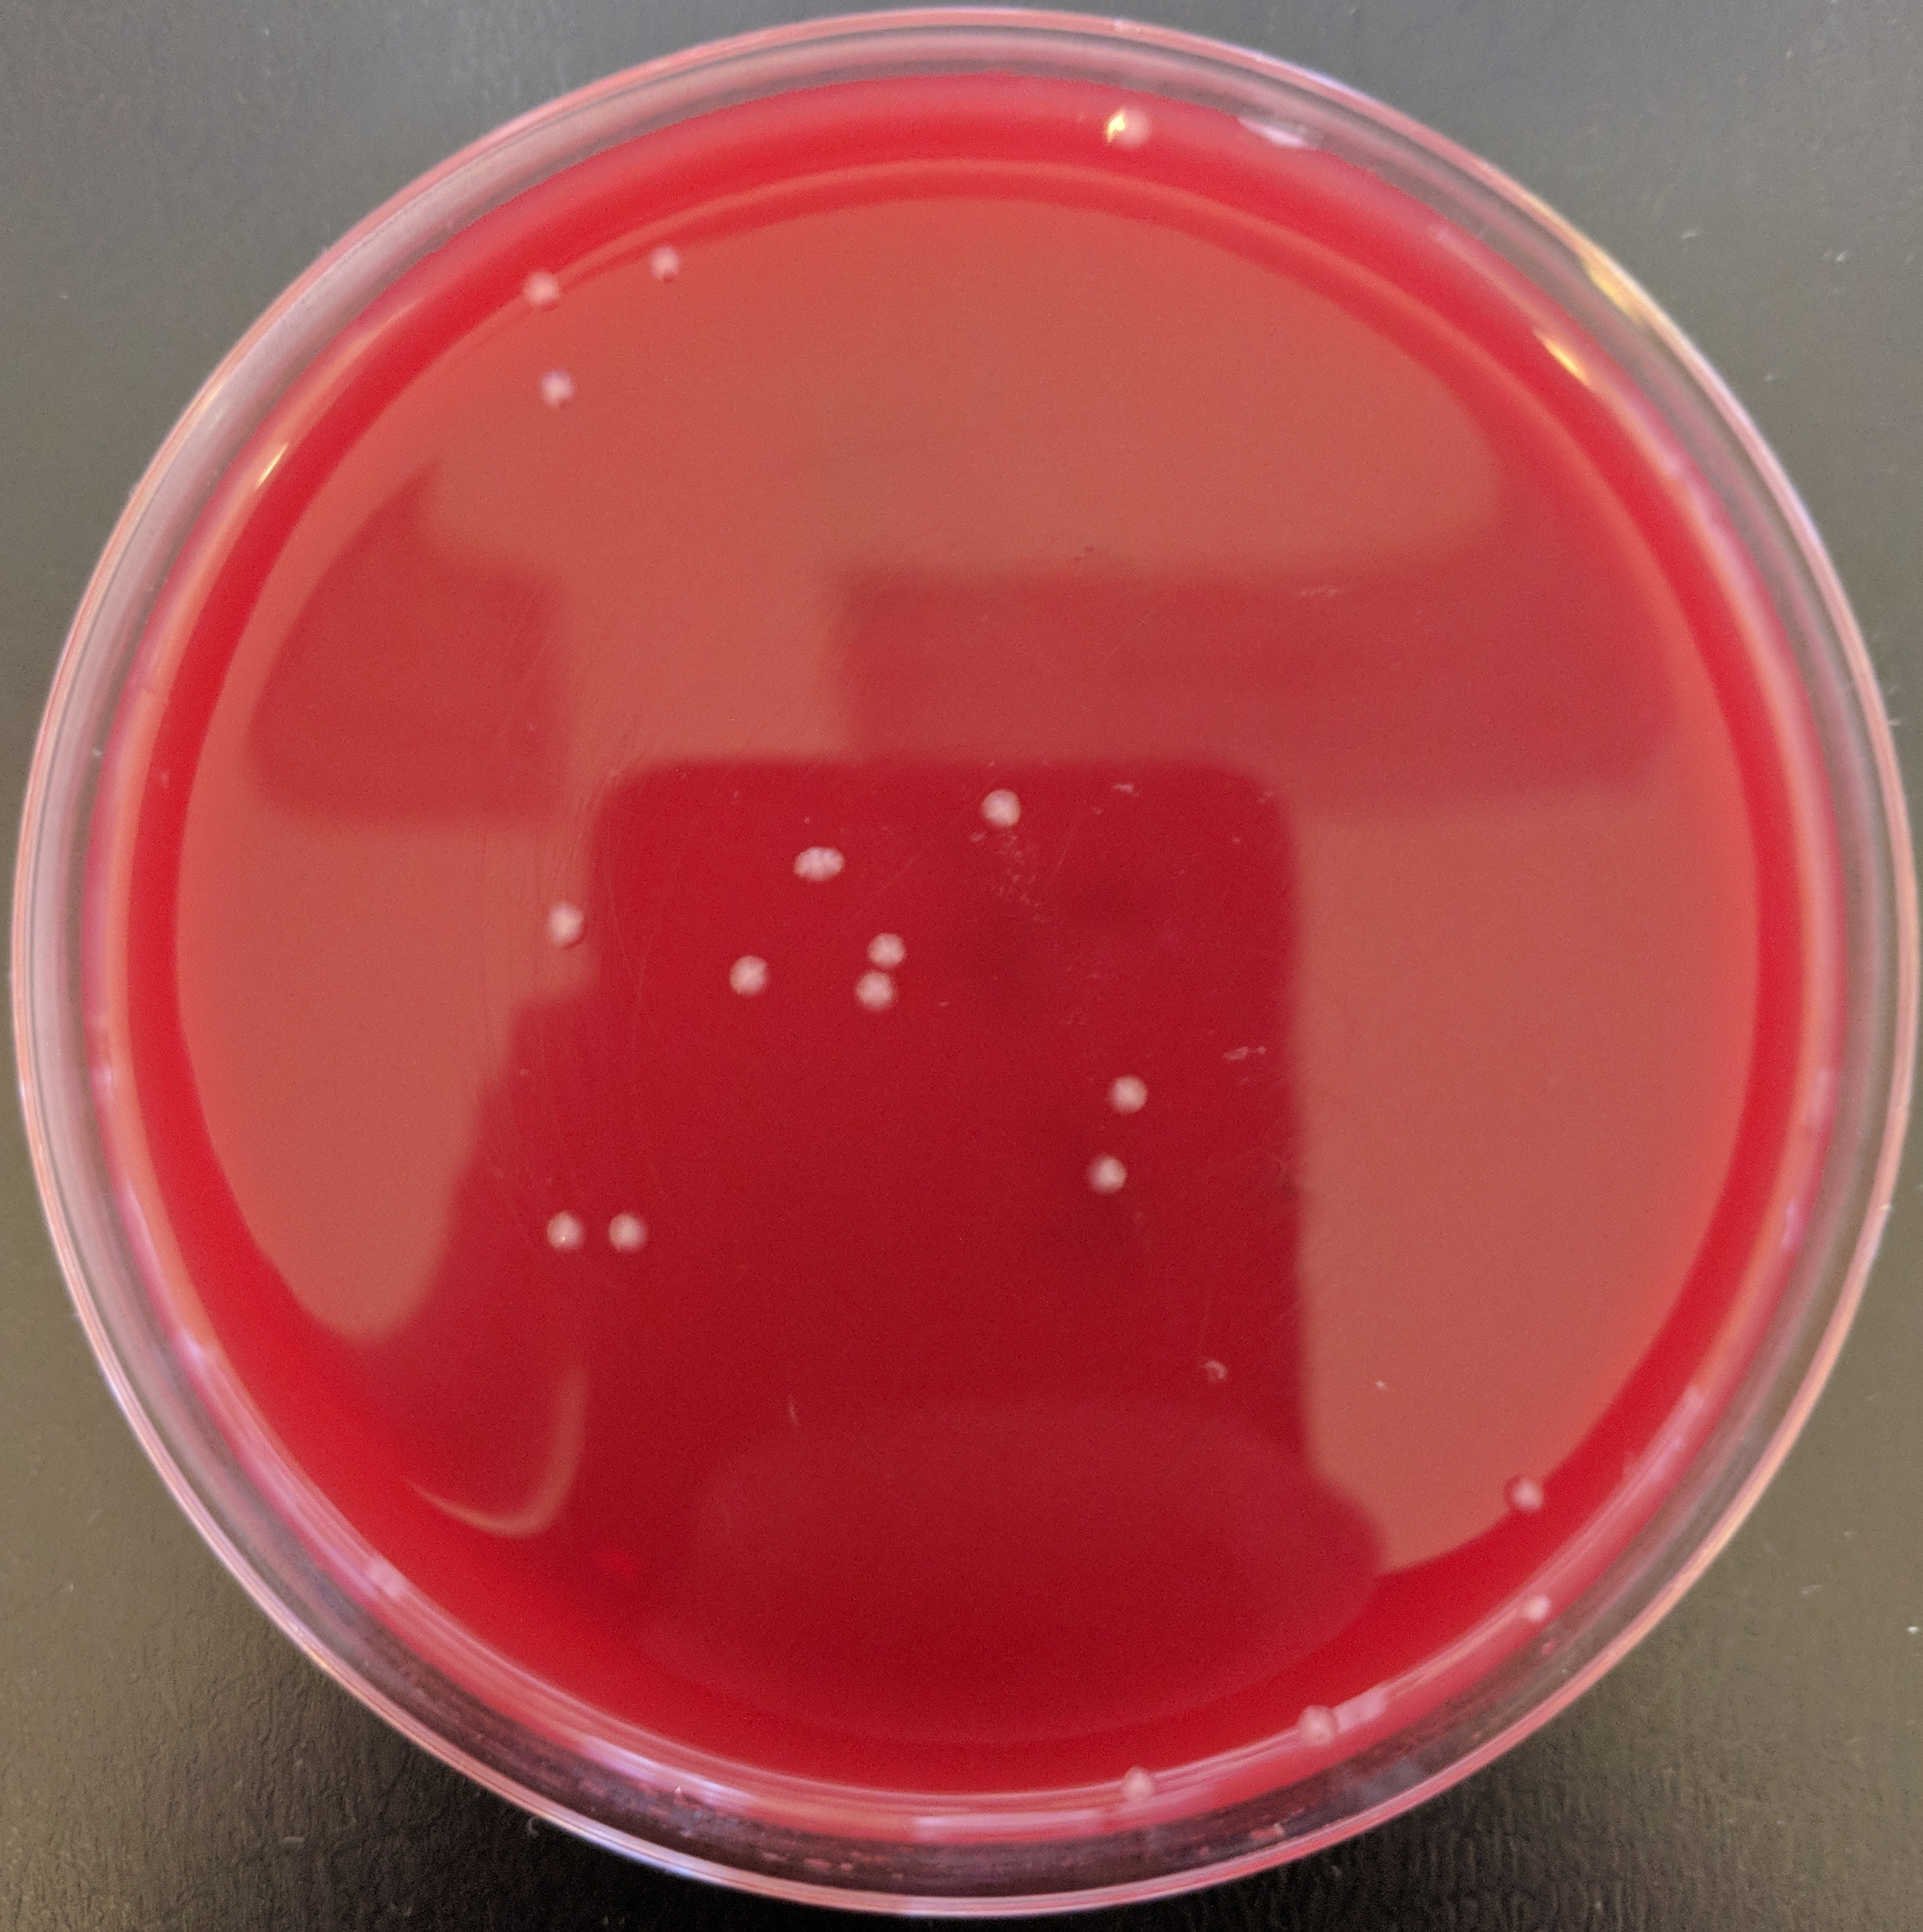sp18: (1099, 99, 1160, 159), (535, 1206, 595, 1261), (1289, 1700, 1351, 1752), (782, 842, 854, 886), (977, 780, 1032, 838), (541, 896, 593, 955), (724, 948, 778, 1002), (1085, 1148, 1138, 1205), (606, 1203, 652, 1265), (1497, 1469, 1551, 1520), (519, 262, 565, 321), (1101, 1071, 1155, 1118), (852, 970, 905, 1018), (537, 365, 581, 417), (859, 926, 914, 969), (1516, 1582, 1564, 1629), (1115, 1761, 1166, 1803), (643, 245, 689, 289)
